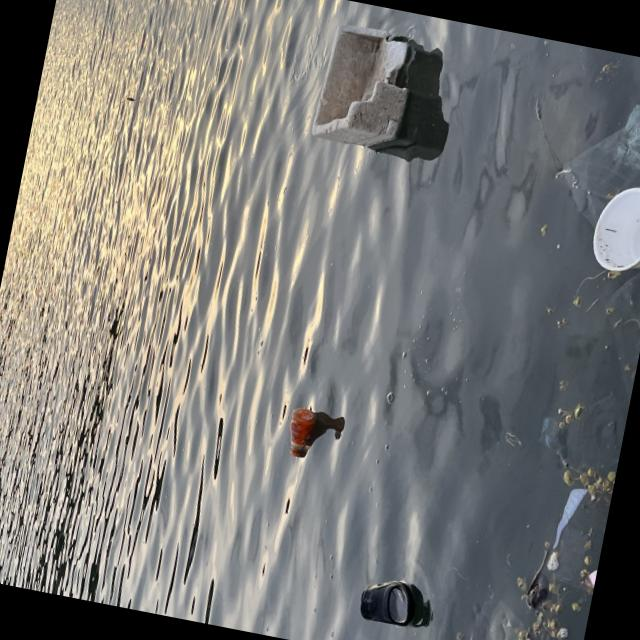foam: (311, 20, 423, 157), (588, 181, 640, 278)
plastic bottle: (286, 408, 318, 460)
